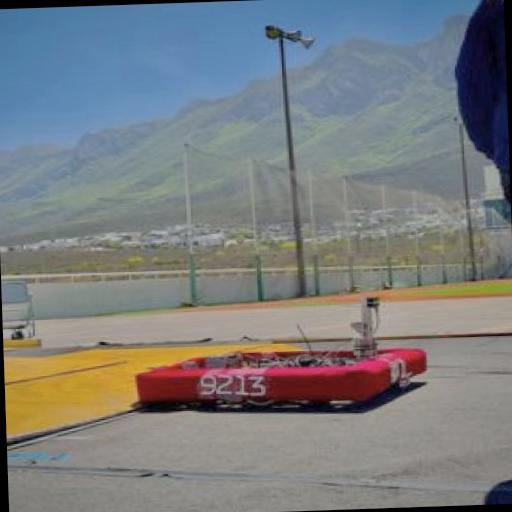robot: (99, 288, 453, 420)
